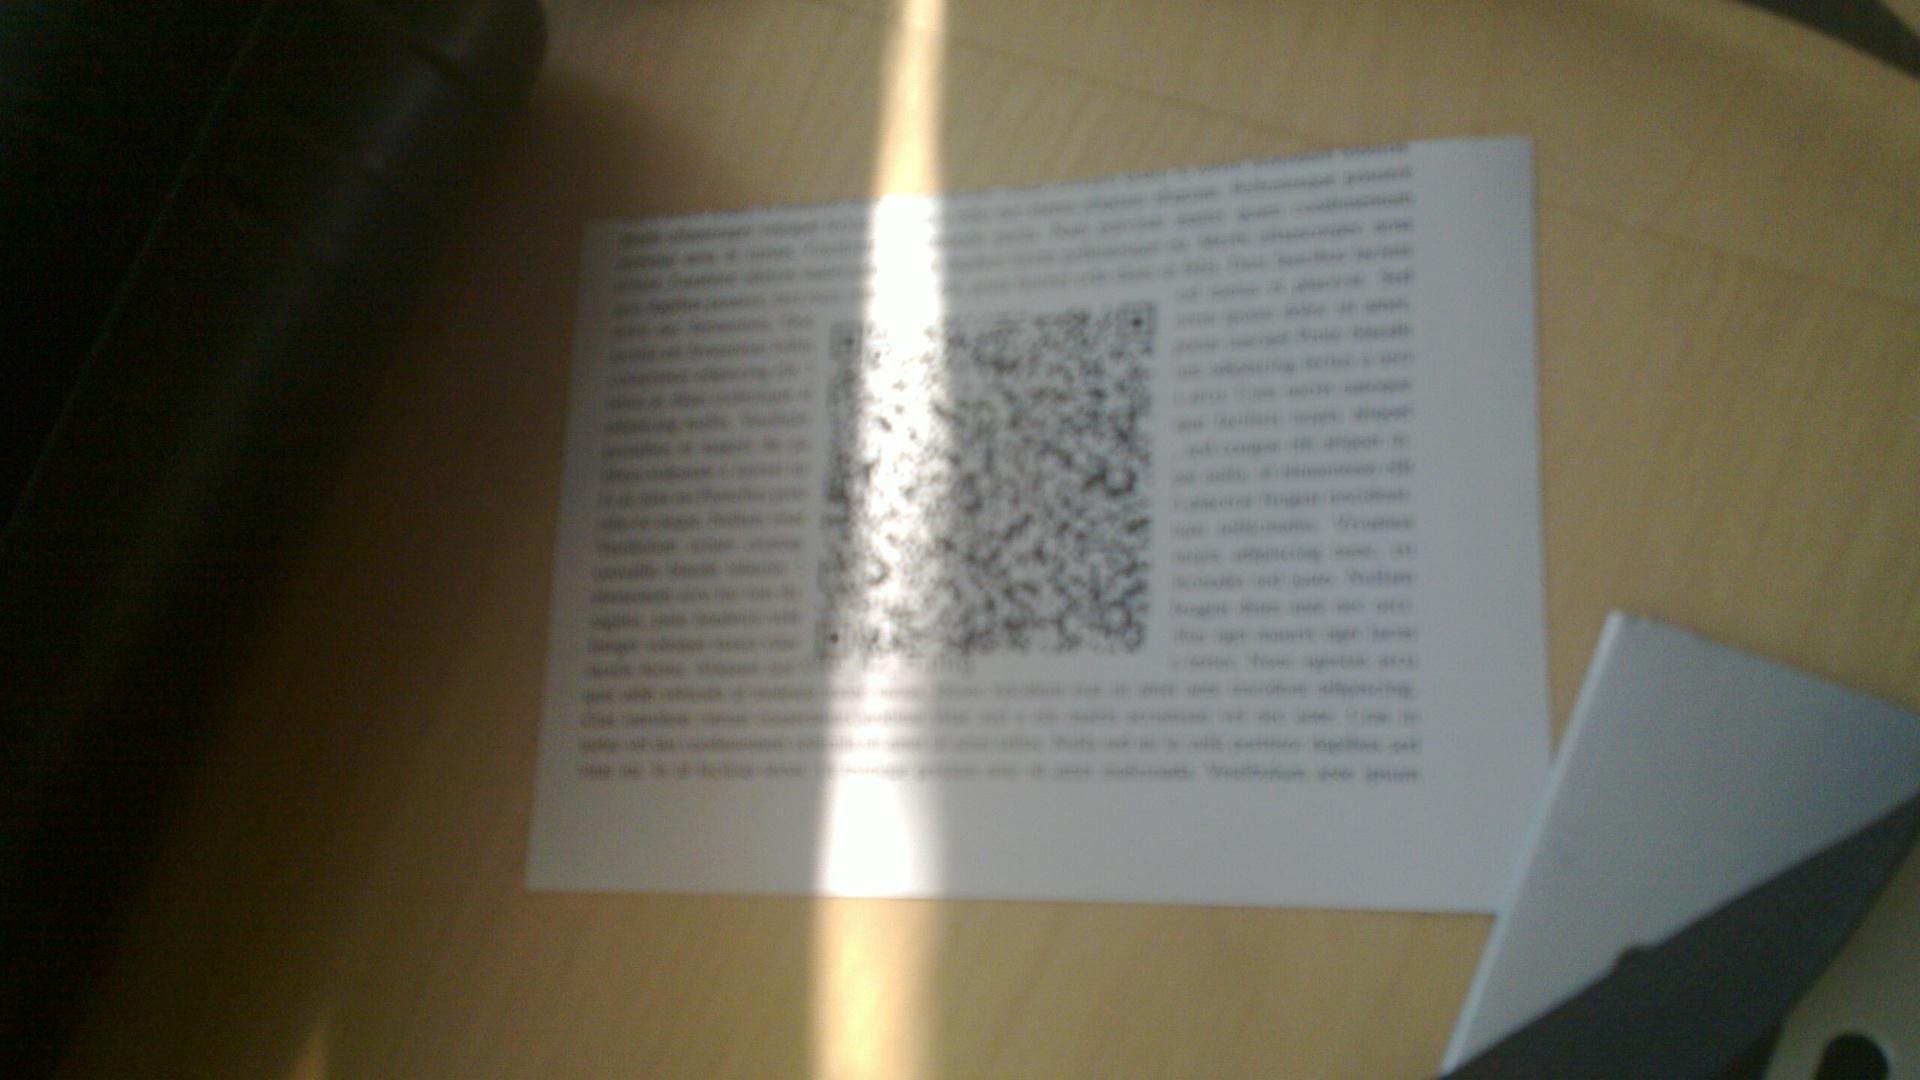qr_code: (815, 302, 1158, 663)
